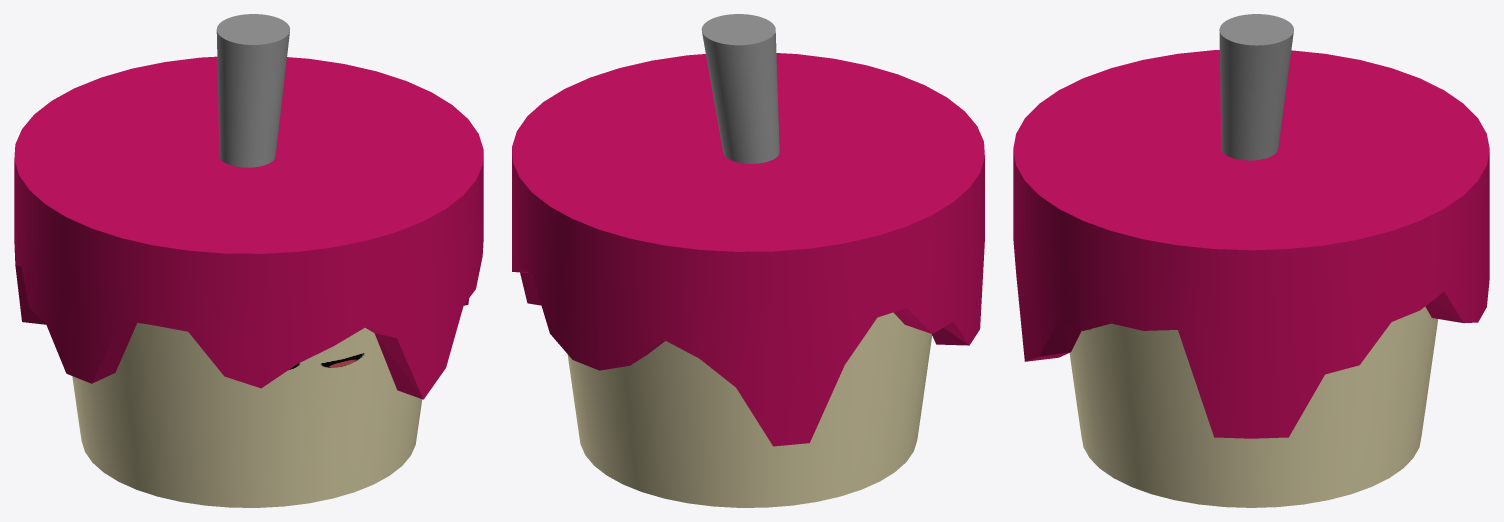
File: Cake 1.fbx
3 views of the same model, side by side, from view 1: azimuth 30°, elevation 25°; view 2: azimuth 150°, elevation 25°; view 3: azimuth 270°, elevation 25° (orthographic).
Parts seen in each view (by area): view 1: Cylinder003, Cylinder004, Cylinder005; view 2: Cylinder003, Cylinder004, Cylinder005; view 3: Cylinder003, Cylinder004, Cylinder005.
Boxes of the visible parts, left/top/right/bottom form: Cylinder003: left=14, top=56, right=483, bottom=399; Cylinder004: left=72, top=322, right=422, bottom=507; Cylinder005: left=216, top=14, right=289, bottom=167; Cylinder003: left=512, top=53, right=984, bottom=446; Cylinder004: left=567, top=312, right=932, bottom=507; Cylinder005: left=701, top=14, right=779, bottom=163; Cylinder003: left=1013, top=50, right=1489, bottom=438; Cylinder004: left=1069, top=306, right=1438, bottom=507; Cylinder005: left=1219, top=14, right=1293, bottom=160.
Size of the model in its own units: 80 by 75.9 by 80.
3 materials, 1 textured.
